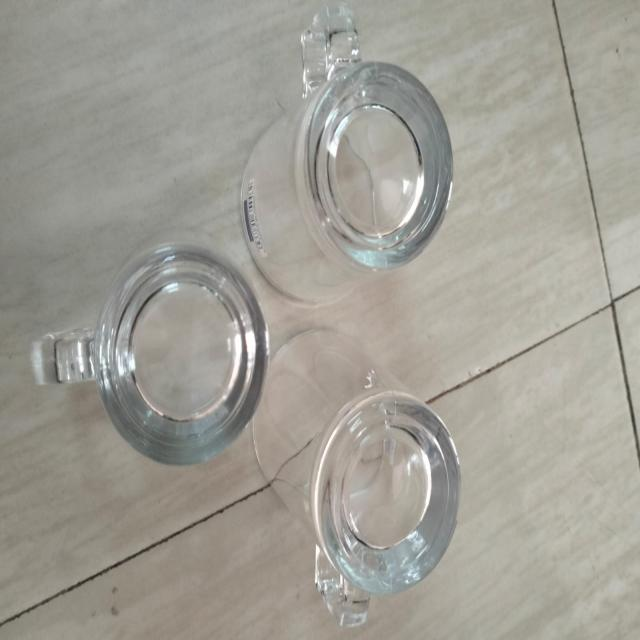glass-VX4N: (242, 0, 454, 312), (256, 325, 459, 629), (33, 238, 272, 462)
